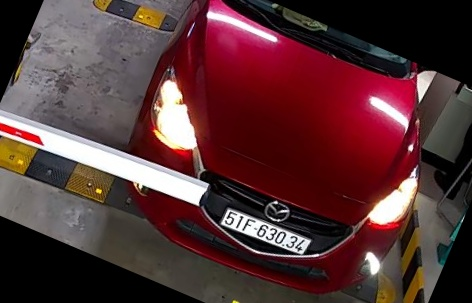plate: (216, 205, 311, 260)
